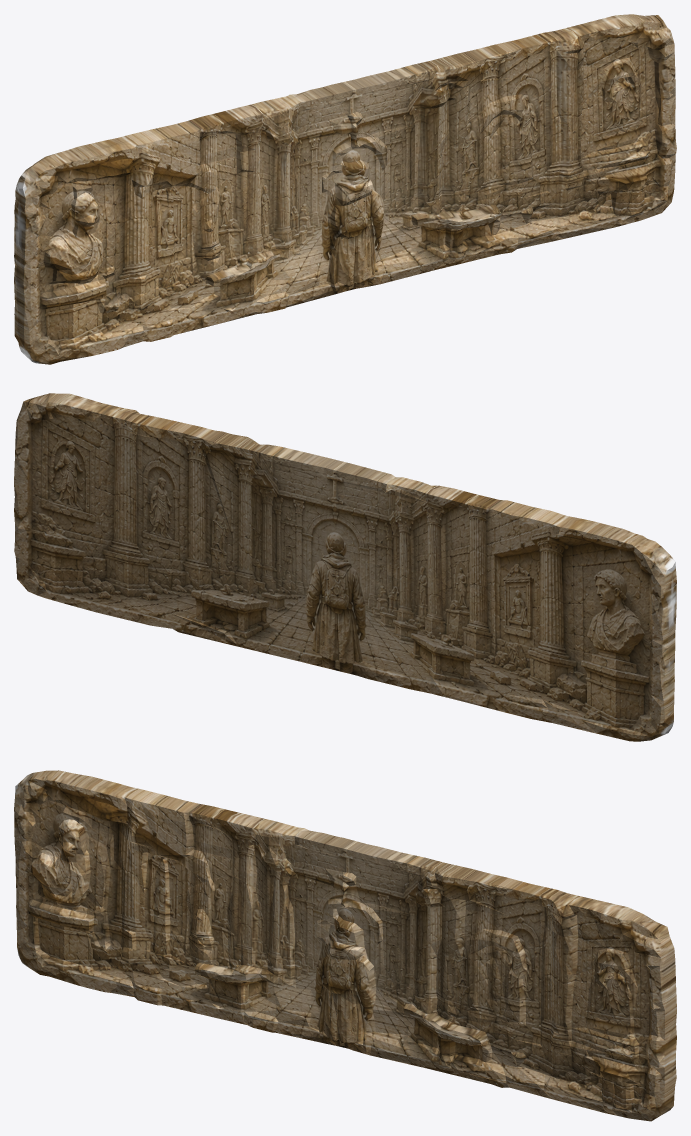
Rendered from xeno.glb.
The picture shows the model from 3 angles, top to bottom: view 1: azimuth 30°, elevation 25°; view 2: azimuth 150°, elevation 25°; view 3: azimuth 330°, elevation 25°; orthographic projection.
Visible parts, largest first — view 1: Mesh_0; view 2: Mesh_0; view 3: Mesh_0.
Part boxes in pixels (box(x1,y1,x2,y2)): Mesh_0: box(14, 14, 676, 364); Mesh_0: box(14, 393, 676, 741); Mesh_0: box(14, 770, 676, 1121).
Bounding box in the file's own units: 2 × 0.5923 × 0.1152.
Materials: 1 (1 with a texture image).
